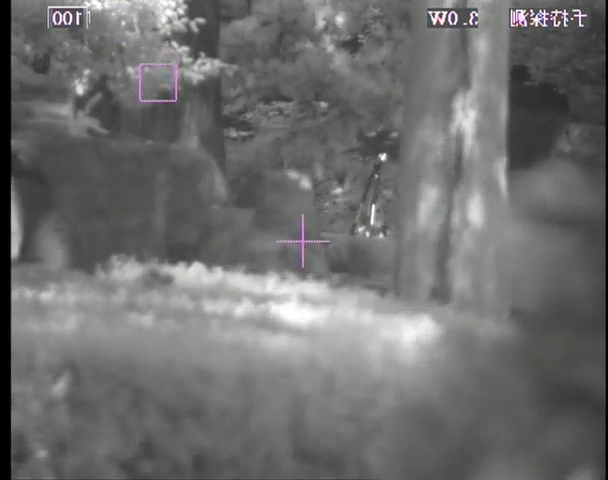my: (377, 151, 388, 163)
